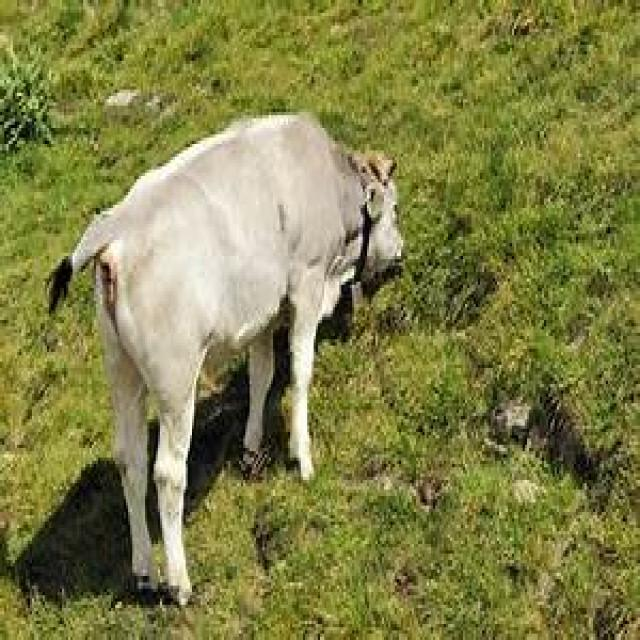animal: (37, 38, 470, 623)
